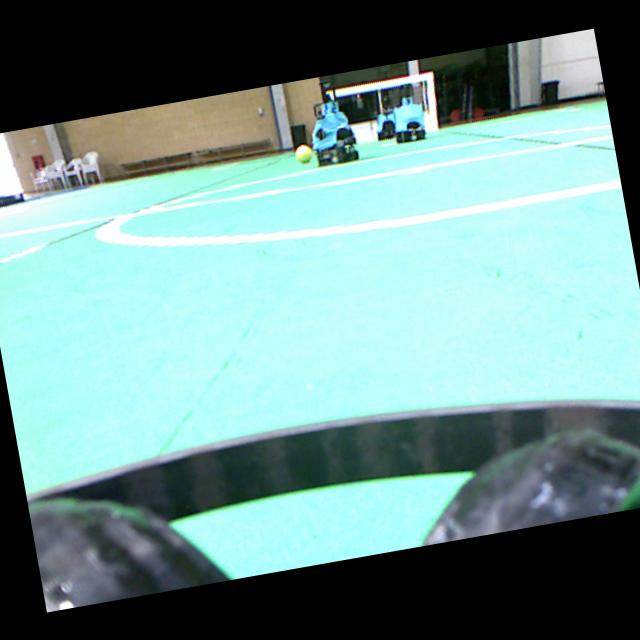ball: (294, 143, 311, 162)
goal: (425, 72, 437, 131)
